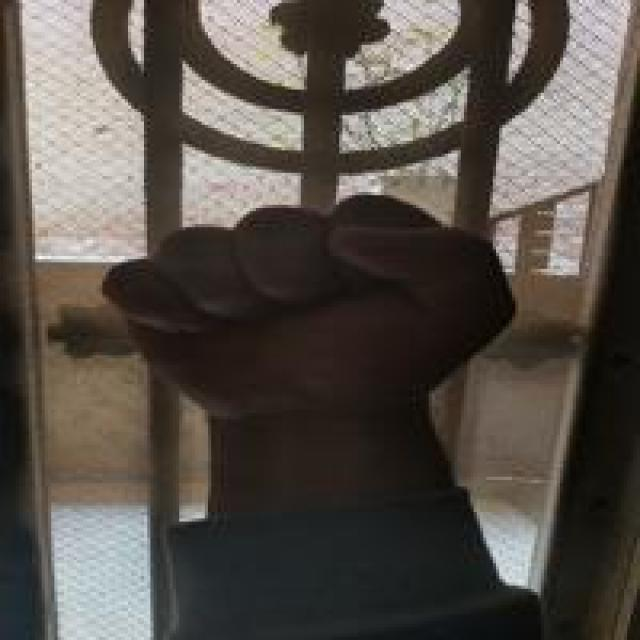S: (94, 188, 520, 410)
